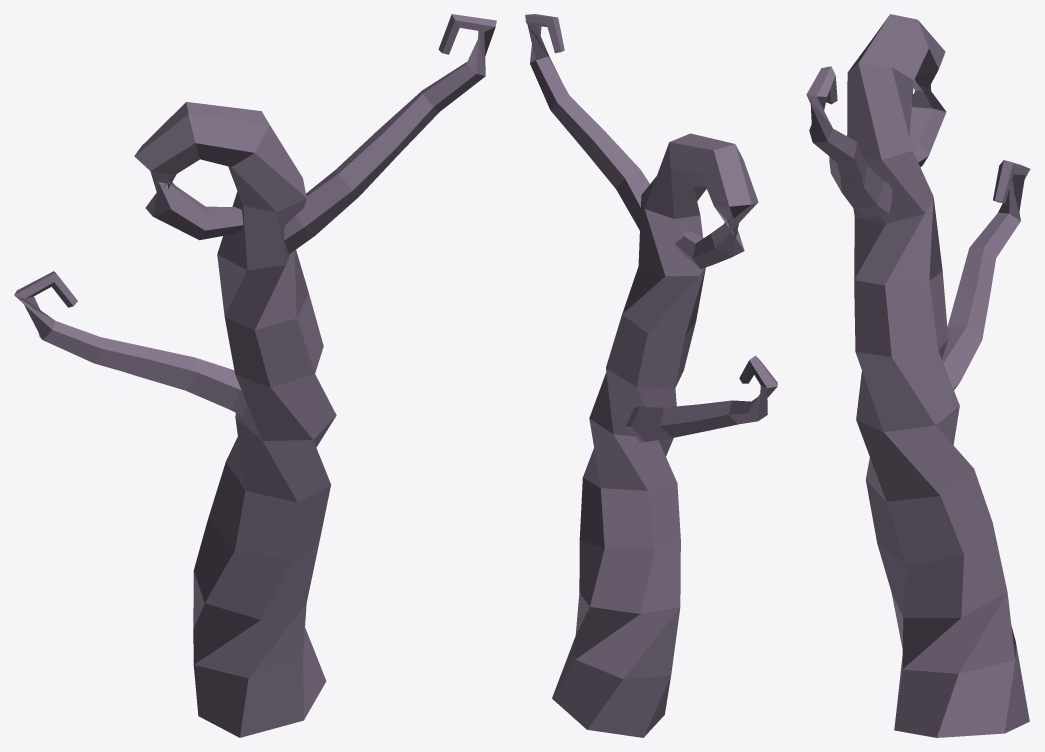
Rendered from goth_tree_teal.glb.
3 renders of one model, left to right at view 1: azimuth 30°, elevation 25°; view 2: azimuth 150°, elevation 25°; view 3: azimuth 270°, elevation 25°, orthographic. The views are drawn at different scales.
Visible parts, largest first — view 1: GothTree; view 2: GothTree; view 3: GothTree.
Part boxes in pixels (bbox=[...]): GothTree: bbox=[14, 14, 496, 737]; GothTree: bbox=[525, 14, 777, 737]; GothTree: bbox=[806, 14, 1030, 737].
Size of what is drawn, in the model's own units: 3.07 by 5.46 by 1.5.
